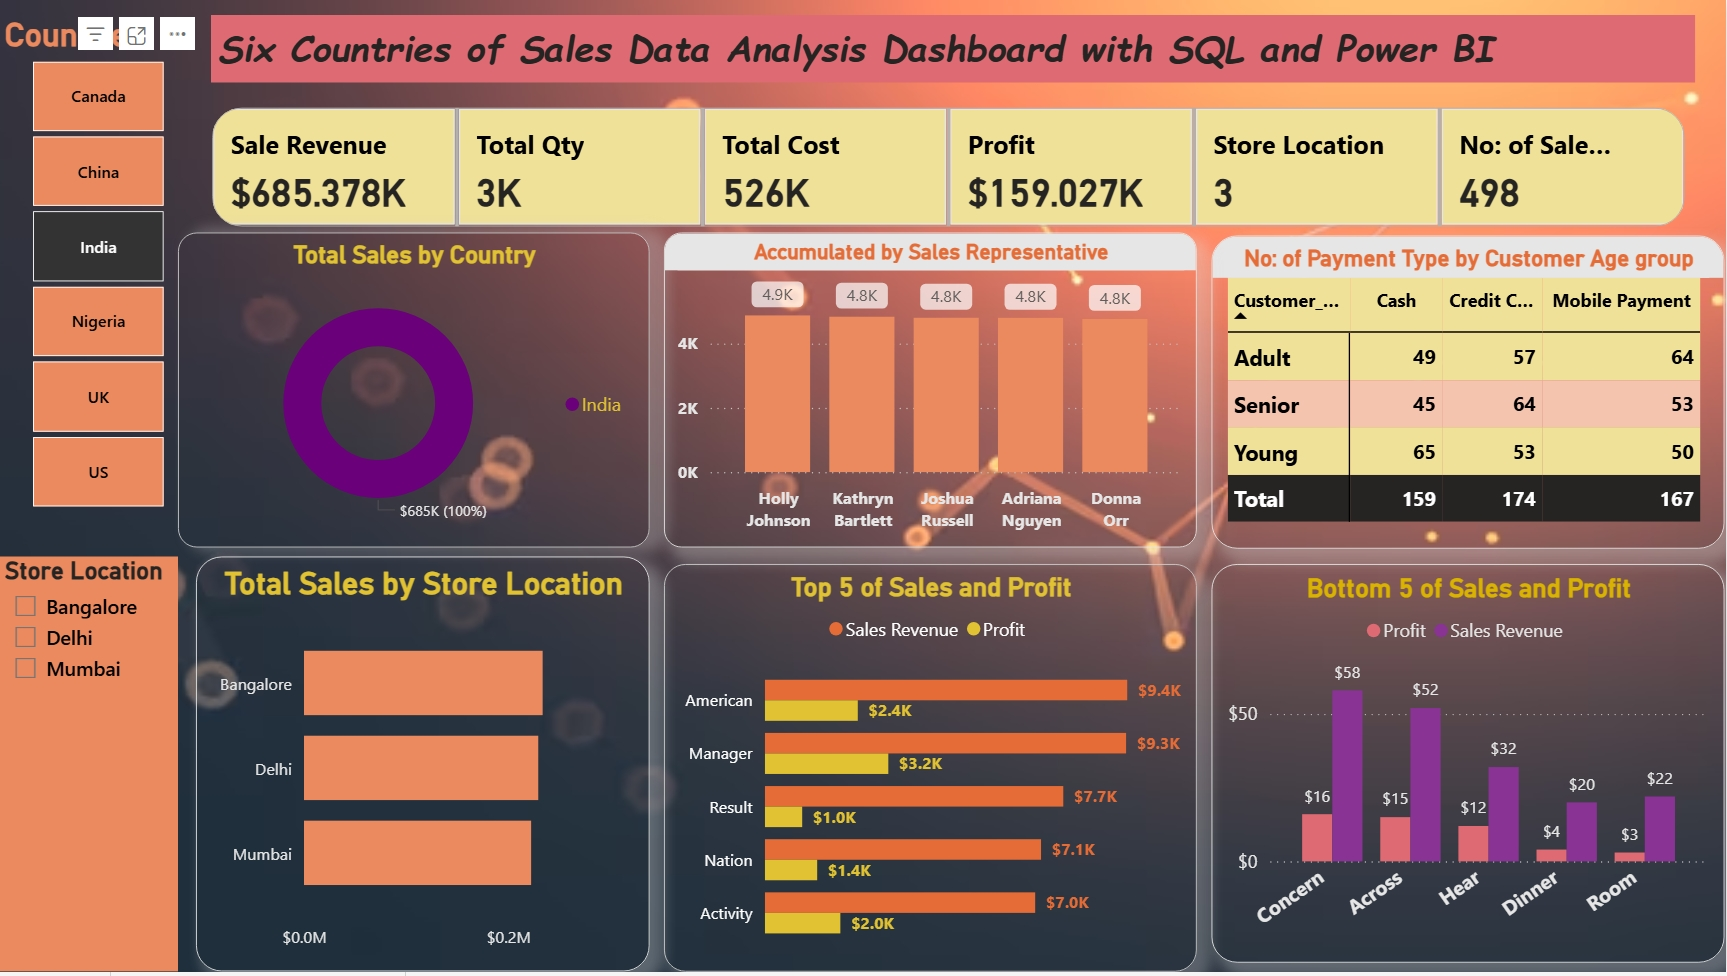

What the dashboard file says about the page in this screenshot:
{"tool":"powerbi","page":{"name":"Page 1","canvas":[1280,720],"ordinal":0},"visuals":[{"type":"slicer","title":"Countries","fields":{"Values":["6countriessaledatabase allsalesdata.Country"]},"box":[0,10.6,146.9,371],"z":0},{"type":"cardVisual","fields":{"Data":["Measurement.Total Sales","Measurement.TotalQty","Sum(6countriessaledatabase allsalesdata.TotalCost)","Sum(6countriessaledatabase allsalesdata.Profit)","Count(6countriessaledatabase allsalesdata.Store_Location)","Count(6countriessaledatabase allsalesdata.Sales_Rep)"]},"box":[133.3,74.2,1146.3,98.4],"z":1000},{"type":"slicer","title":"Store Location","fields":{"Values":["6countriessaledatabase allsalesdata.Store_Location"]},"box":[0,411.9,133.3,307.4],"z":2000},{"type":"donutChart","fields":{"Category":["6countriessaledatabase allsalesdata.Country"],"Y":["Measurement.Total Sales"]},"box":[132.9,172.7,349.3,233.5],"z":3000},{"type":"pivotTable","title":"No: of Payment Type by Customer Age group","fields":{"Rows":["6countriessaledatabase allsalesdata.Customer_Age_Group"],"Columns":["6countriessaledatabase allsalesdata.Payment_Method"],"Values":["CountNonNull(6countriessaledatabase allsalesdata.Payment_Method)"]},"box":[899.4,174.1,380.1,231.7],"z":4000},{"type":"clusteredBarChart","title":"Top 5 of Sales and Profit","fields":{"Category":["6countriessaledatabase allsalesdata.Product_Name"],"Y":["Measurement.Total Sales","Sum(6countriessaledatabase allsalesdata.Profit)"]},"box":[493.5,417.6,394.8,301.8],"z":5000},{"type":"clusteredColumnChart","title":"Bottom 5 of Sales and Profit","fields":{"Category":["6countriessaledatabase allsalesdata.Product_Name"],"Y":["Sum(6countriessaledatabase allsalesdata.Profit)","Measurement.Total Sales"]},"box":[899.4,417.9,380.1,295.3],"z":6000},{"type":"barChart","title":"Total Sales by Store Location","fields":{"Category":["6countriessaledatabase allsalesdata.Store_Location"],"Y":["Measurement.Total Sales"]},"box":[146.2,411.9,336,307.5],"z":7000},{"type":"lineStackedColumnComboChart","title":"Accumulated by Sales Representative","fields":{"Category":["6countriessaledatabase allsalesdata.Sales_Rep"],"Y":["Measurement.Total YTD"]},"box":[493.5,172.7,394.8,233.5],"z":8000},{"type":"textbox","box":[157.5,10.6,1099.3,50],"z":9000}]}

Visuals, with their boxes on the page's 1280x720 design canvas (x1, y1, x2, y2). These are canvas units, not pixel positions in the 1727x976 screenshot, which may show the page scaled, cropped or inside an application window:
"Countries" slicer: Rect(0, 11, 147, 382)
cardVisual - Measurement.Total Sales x Measurement.TotalQty: Rect(133, 74, 1280, 173)
"Store Location" slicer: Rect(0, 412, 133, 719)
donutChart - 6countriessaledatabase allsalesdata.Country x Measurement.Total Sales: Rect(133, 173, 482, 406)
"No: of Payment Type by Customer Age group" pivotTable: Rect(899, 174, 1280, 406)
"Top 5 of Sales and Profit" clusteredBarChart: Rect(494, 418, 888, 719)
"Bottom 5 of Sales and Profit" clusteredColumnChart: Rect(899, 418, 1280, 713)
"Total Sales by Store Location" barChart: Rect(146, 412, 482, 719)
"Accumulated by Sales Representative" lineStackedColumnComboChart: Rect(494, 173, 888, 406)
textbox: Rect(158, 11, 1257, 61)
